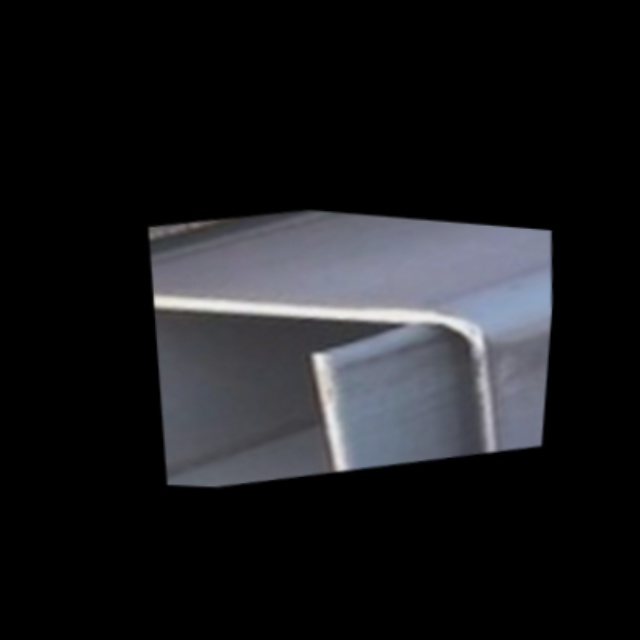Shveller: (149, 232, 507, 499), (151, 261, 347, 493)
